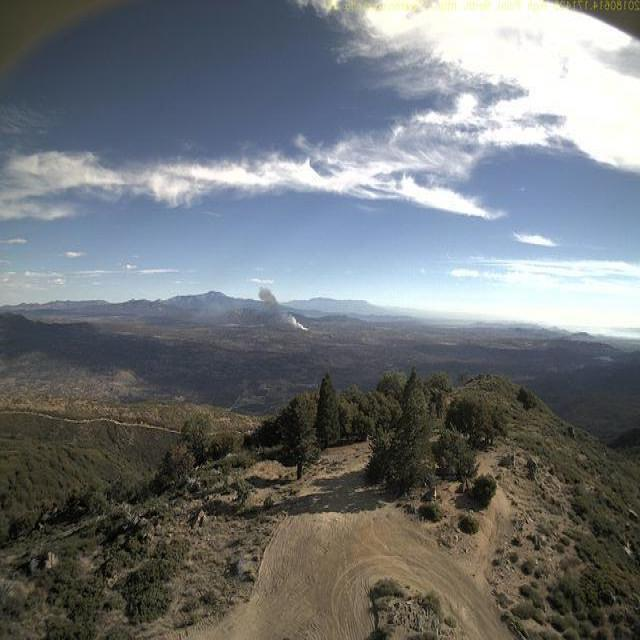Smoke: (254, 281, 312, 332)
